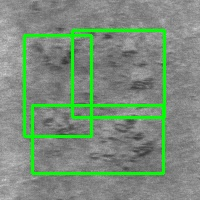rolled-in_scale: (32, 105, 163, 173), (72, 30, 164, 117), (25, 35, 91, 136)
